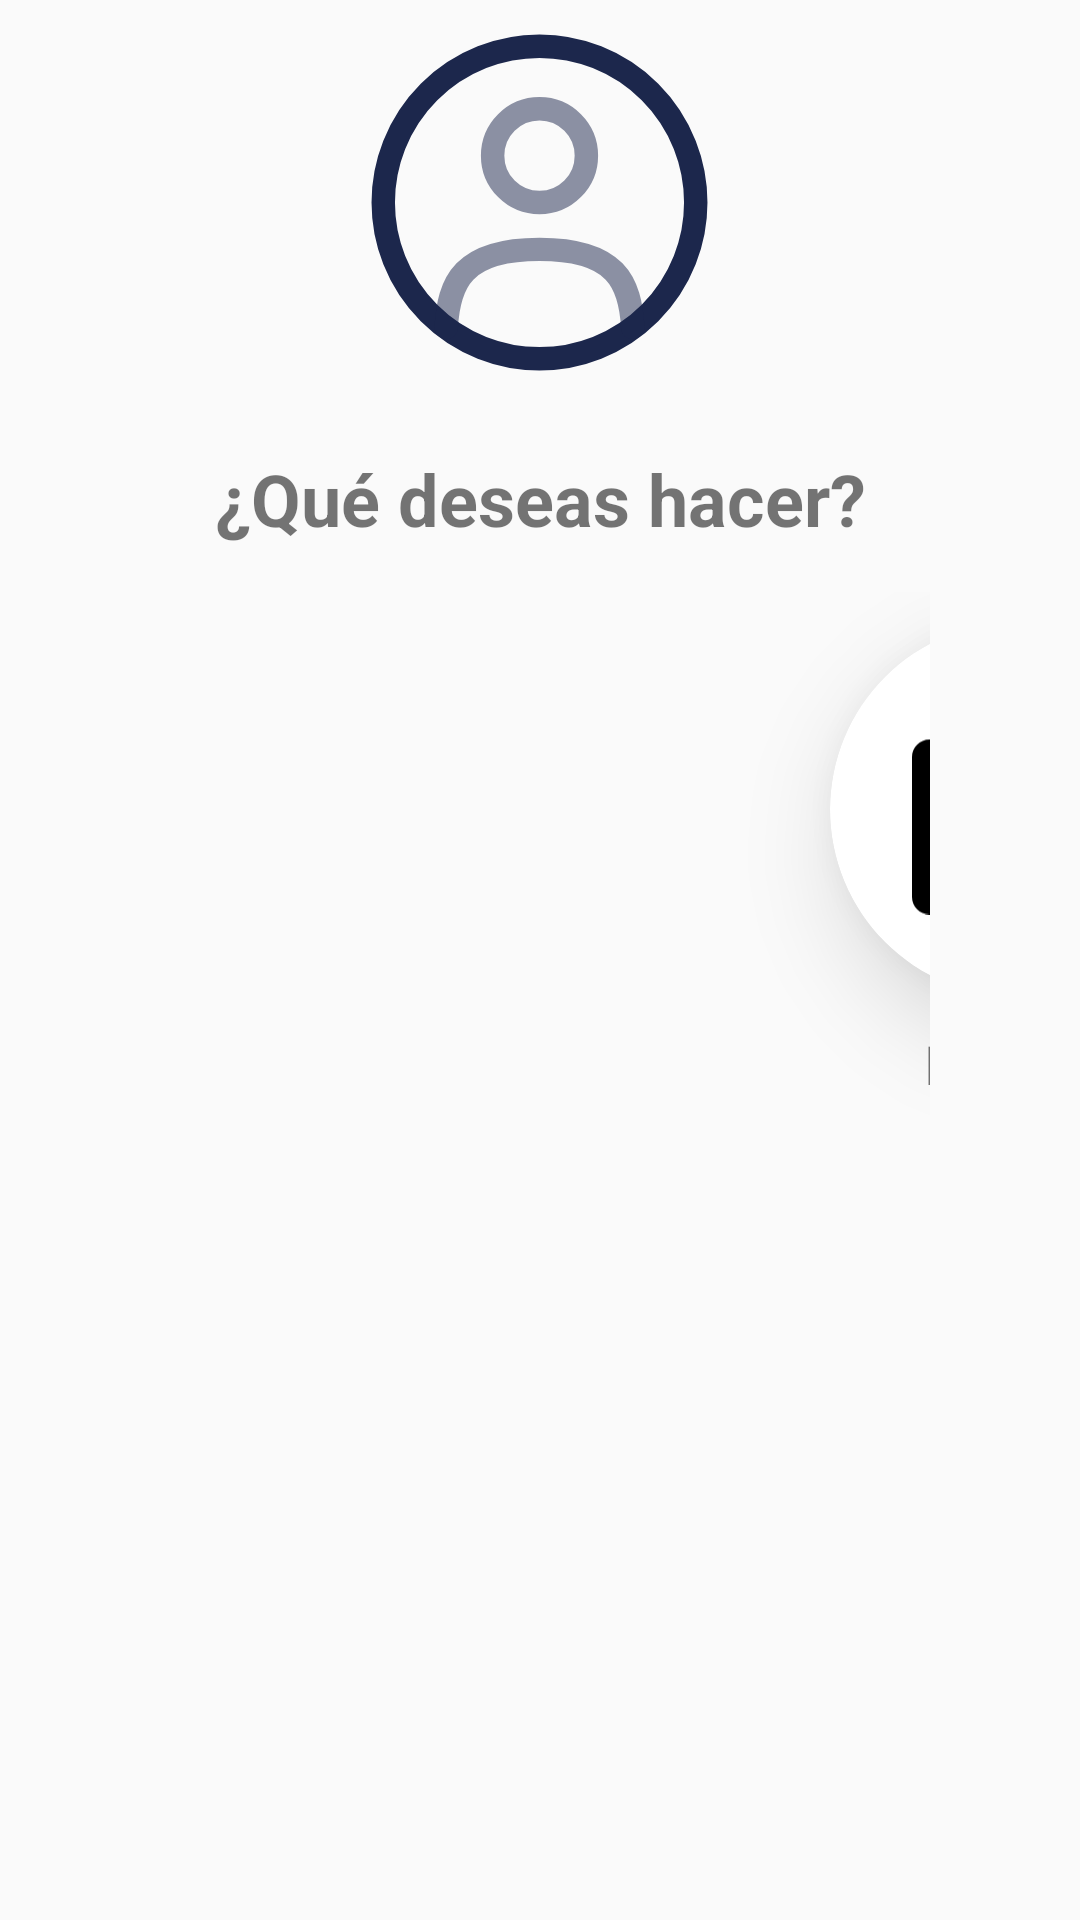

Named icons in this screenshot (1080px x 1920px) and their bounding boxes, (left=x1, top=y1, right=x2, bottom=y2):
circular usuario: (left=371, top=34, right=708, bottom=371)
